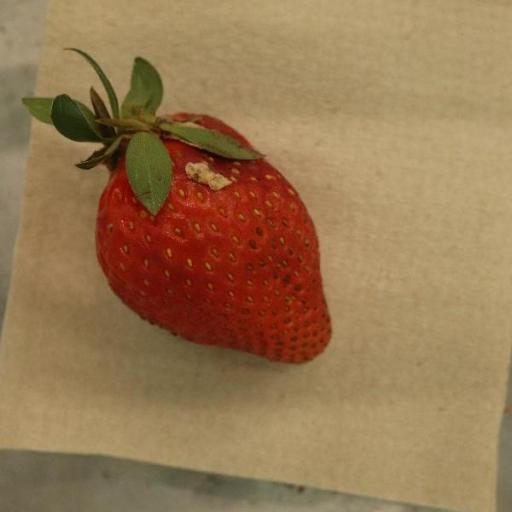Strawberry: (47, 56, 333, 364)
